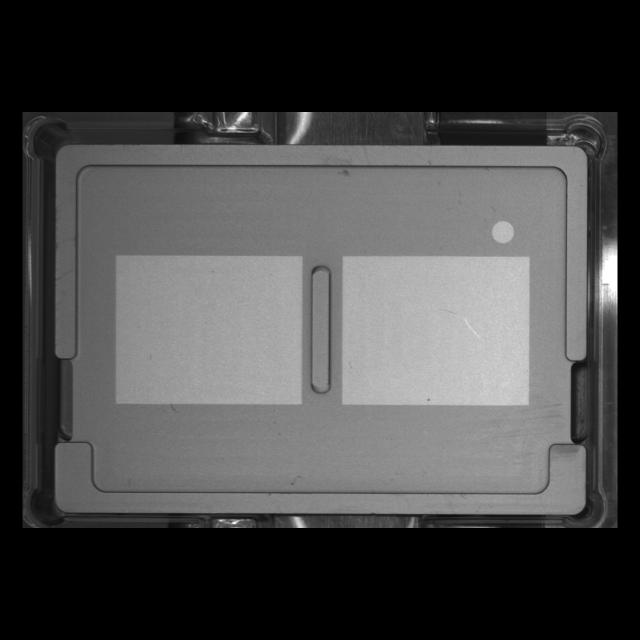door: (40, 426, 595, 524)
point: (488, 215, 518, 249)
